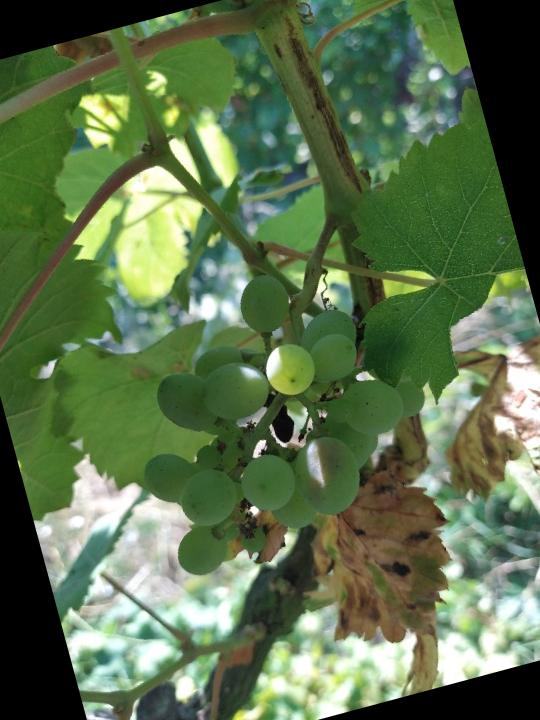grape: (100, 241, 459, 586)
